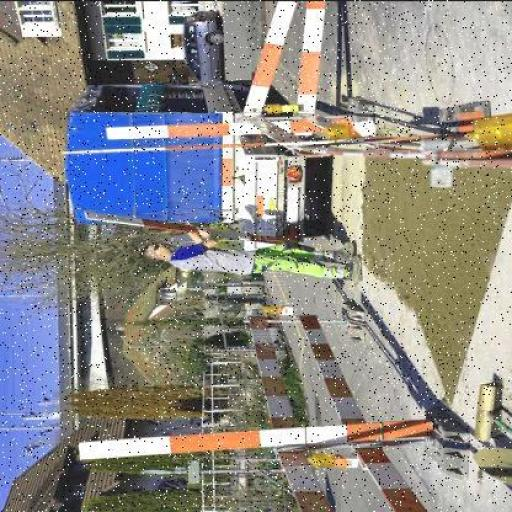person: (136, 223, 360, 295)
safety_shoe: (330, 238, 359, 264), (344, 253, 364, 279)
